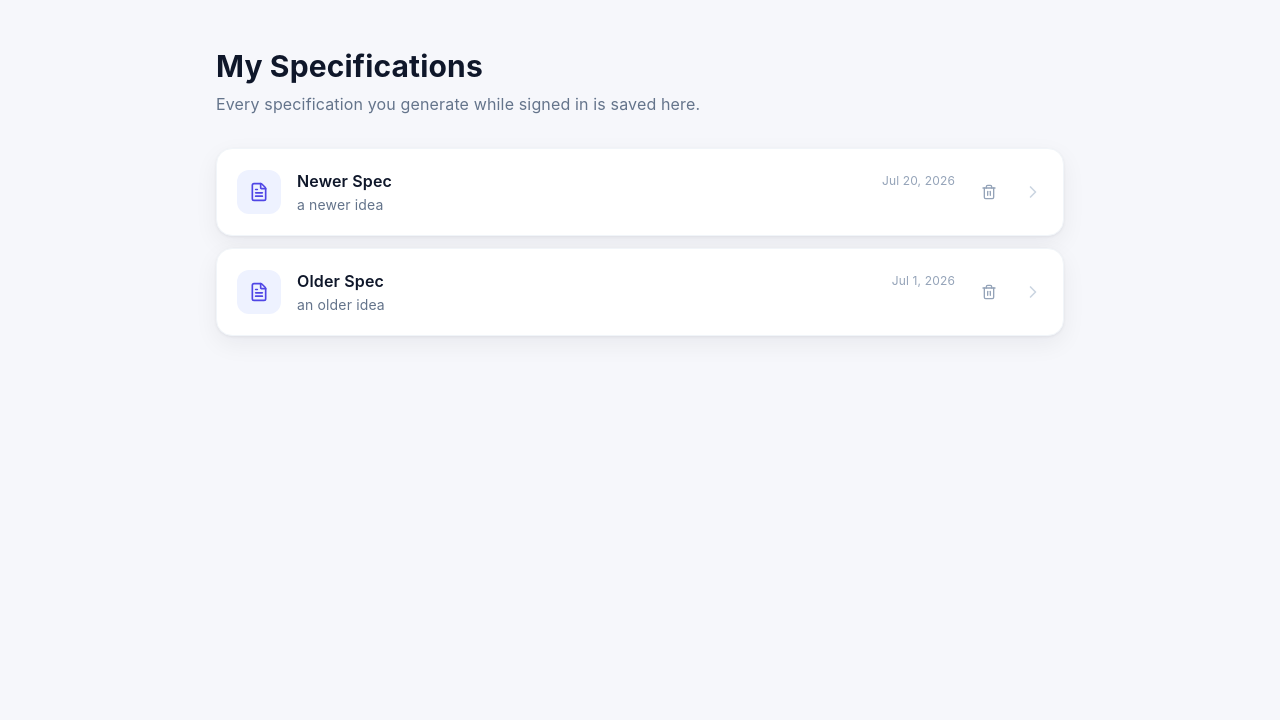
Test case: deleting a saved specification › asks for confirmation, deletes it, and removes it from the list
Expected: the heading "Older Spec" is shown, [297,269,384,293]
What coordinates should you click on to do the following:
click the button named "delete older spec"
I would click on:
 (989, 292)
Its box is [971,274,1007,310].
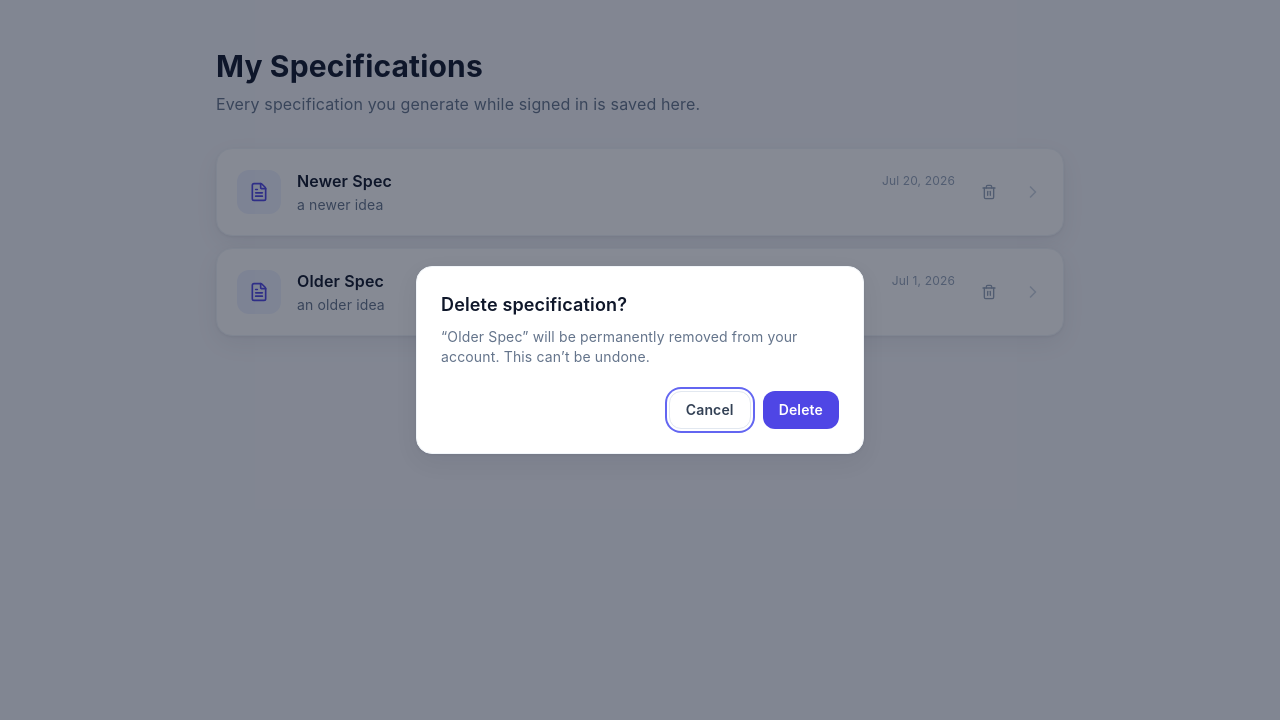
Now the heading "Delete specification?" is shown, box [441,294,627,315]
What coordinates should you click on to do the following:
click the button "Delete"
I would click on:
 (801, 410)
Its box is [763,391,839,429].
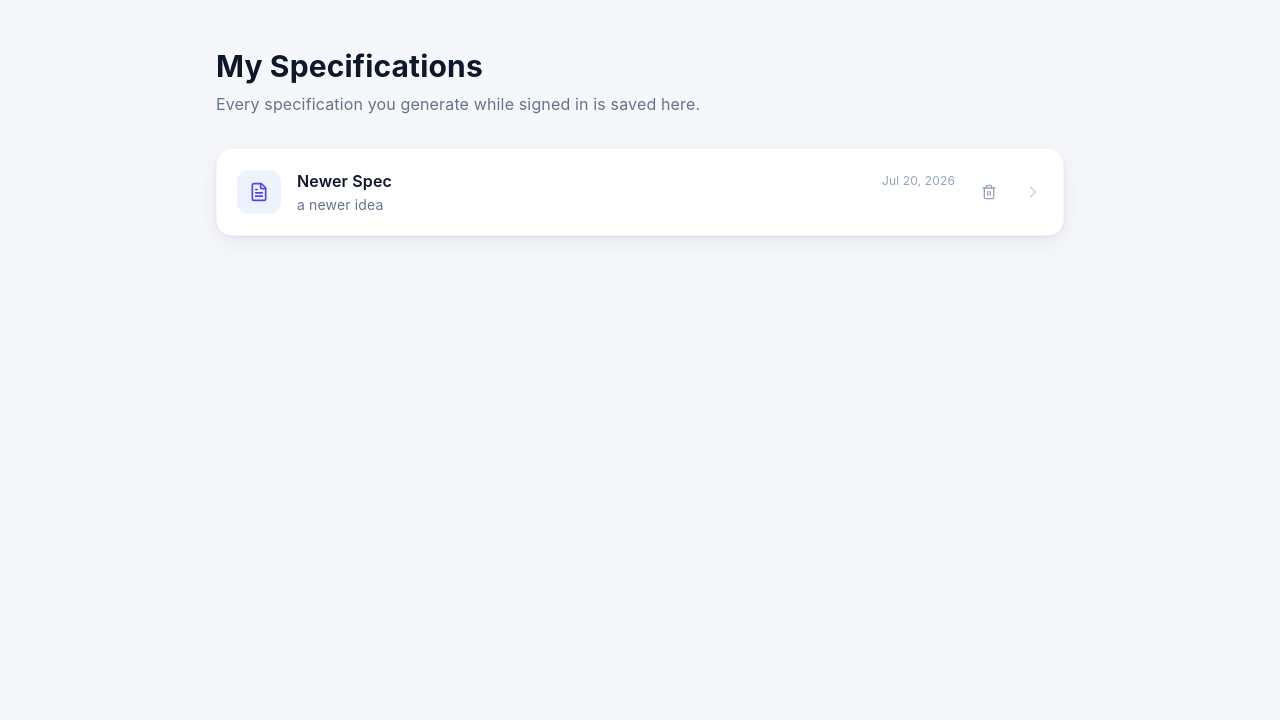
Expected: the heading "Newer Spec" is shown, [297,169,392,193]
Now the heading "Older Spec" is gone
Now the dialog is gone
